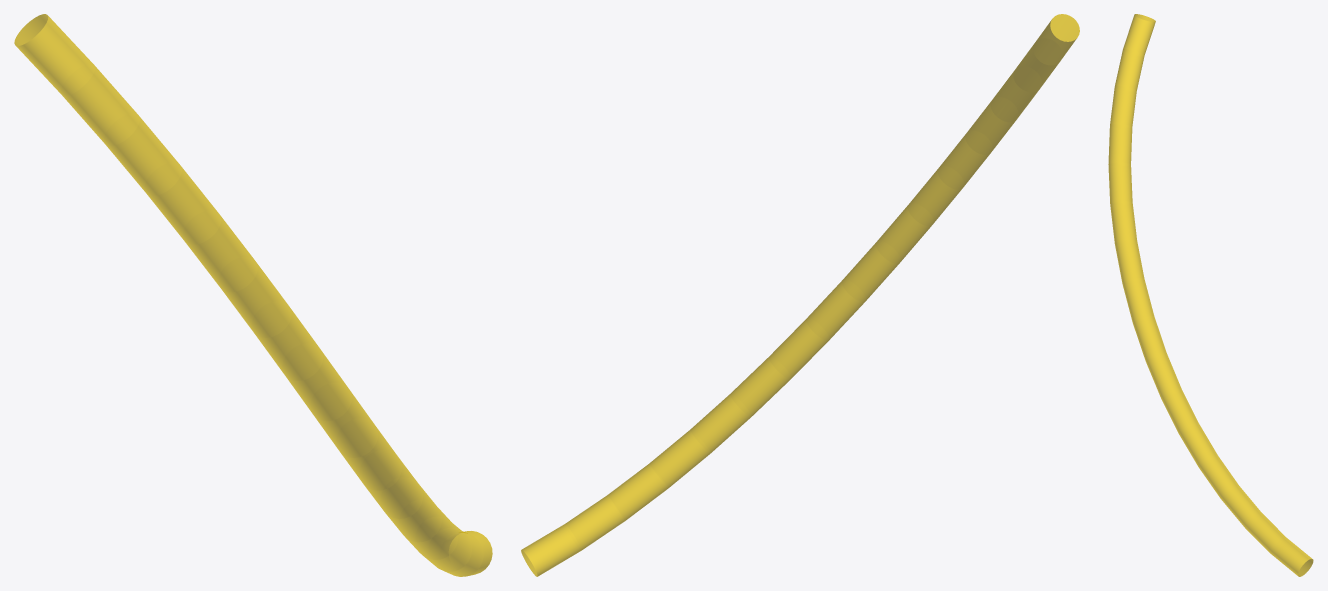
Rendered from Event_100608114_track_77.fbx.
3 views of the same model, side by side, from view 1: azimuth 30°, elevation 25°; view 2: azimuth 150°, elevation 25°; view 3: azimuth 270°, elevation 25° (orthographic). The views are drawn at different scales.
Parts seen in each view (by area): view 1: Model; view 2: Model; view 3: Model.
Part boxes in pixels (box(x1,y1,x2,y2)): Model: box(14, 14, 492, 576); Model: box(521, 14, 1079, 576); Model: box(1108, 14, 1313, 576).
Bounding box in the file's own units: 0.6542 × 0.811 × 0.3614.
